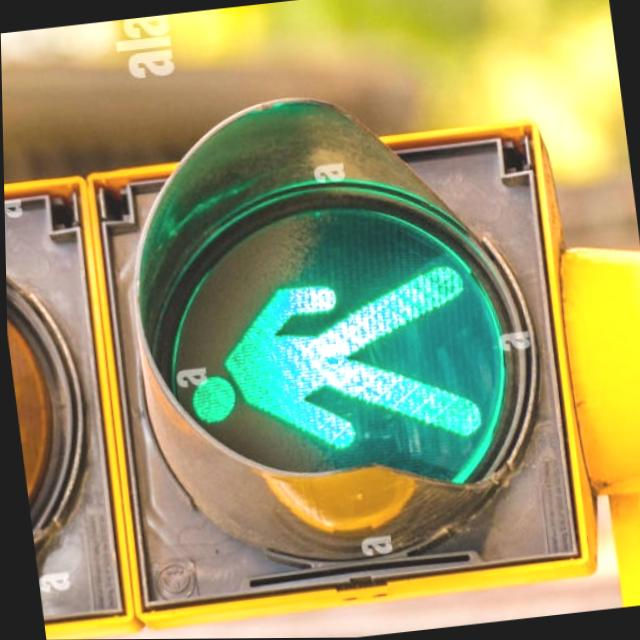green_light: (166, 249, 488, 489)
